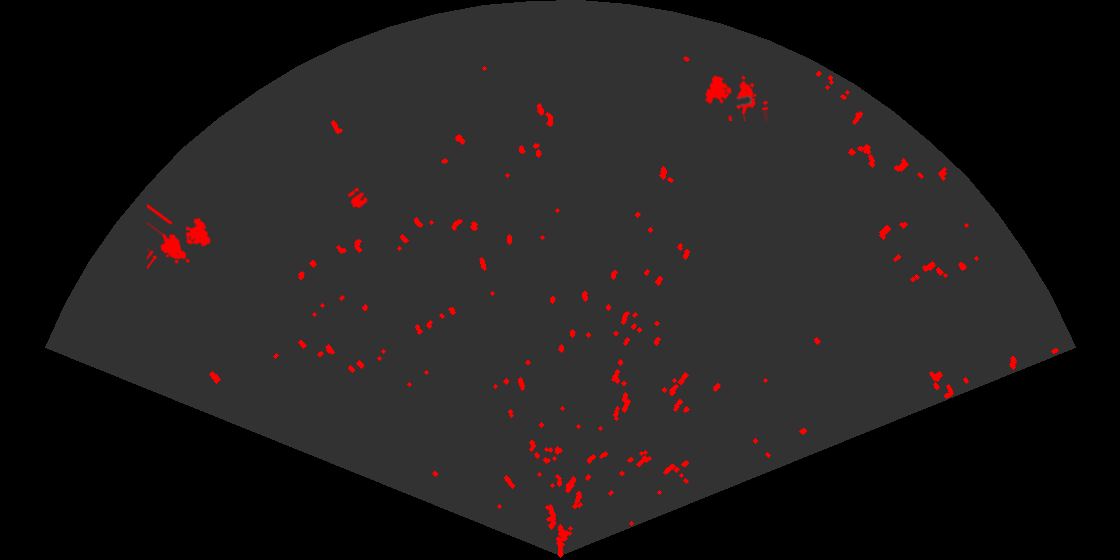ball: (346, 186, 369, 210)
cage: (147, 202, 212, 271), (703, 74, 768, 121)
